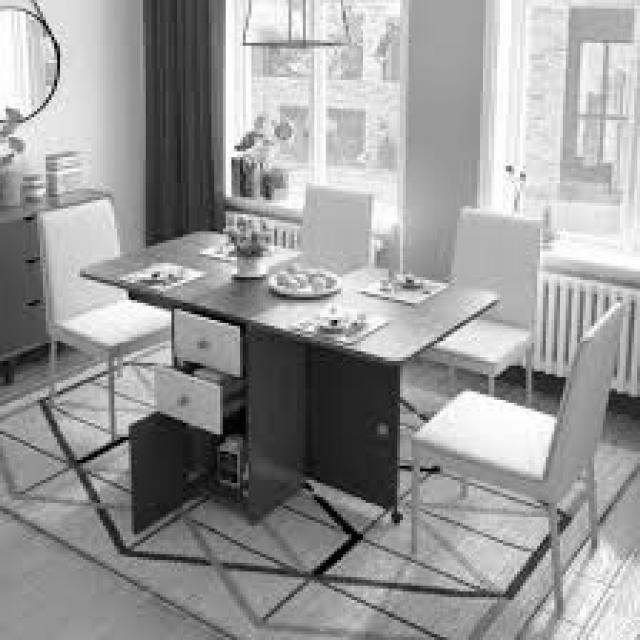table: (79, 214, 505, 378)
